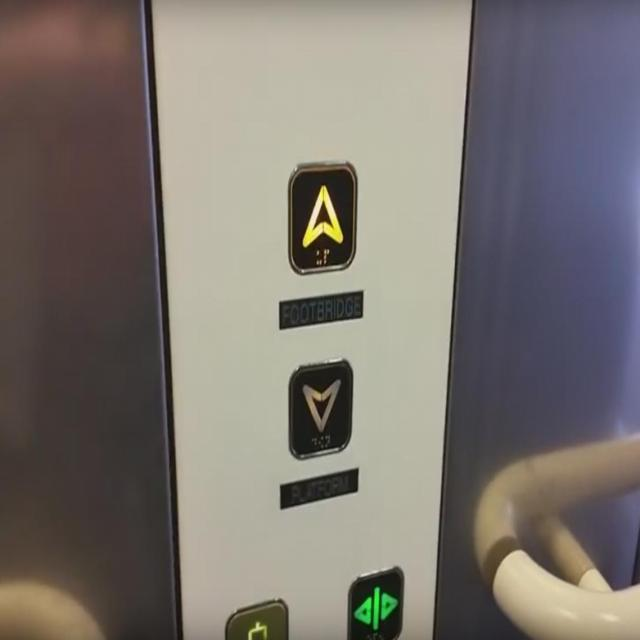down: (286, 357, 354, 460)
open: (345, 565, 406, 639)
up: (288, 160, 357, 277)
